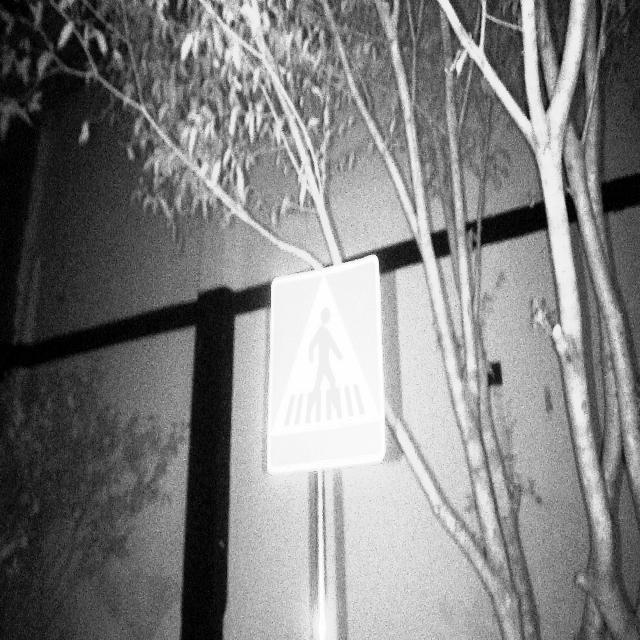Sign: (266, 252, 388, 479)
Tree: (378, 0, 544, 640), (519, 5, 639, 640)
